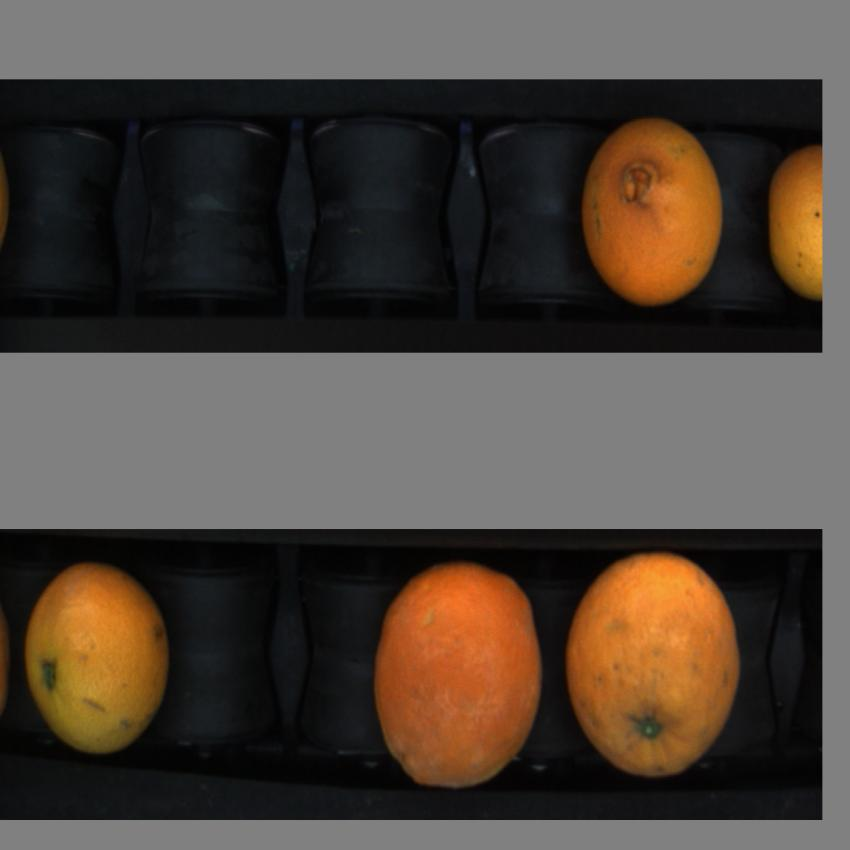Buen estado: (566, 549, 744, 781), (21, 556, 181, 760), (584, 117, 726, 301), (759, 141, 822, 309)
Mal estado: (373, 560, 542, 792)
